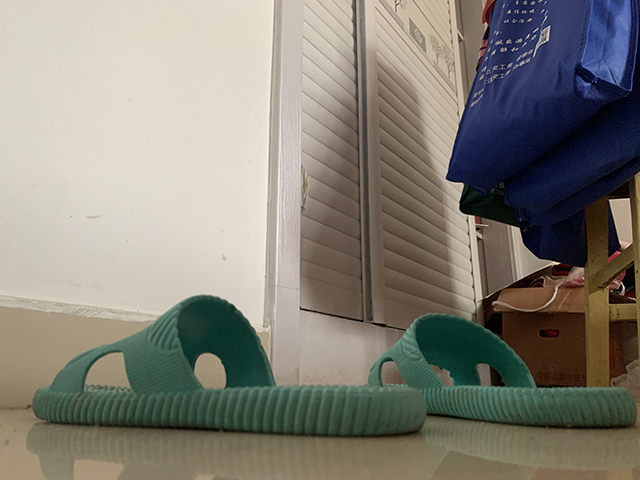cabinet: (262, 1, 524, 393)
slippers: (31, 291, 436, 437), (366, 310, 637, 427)
